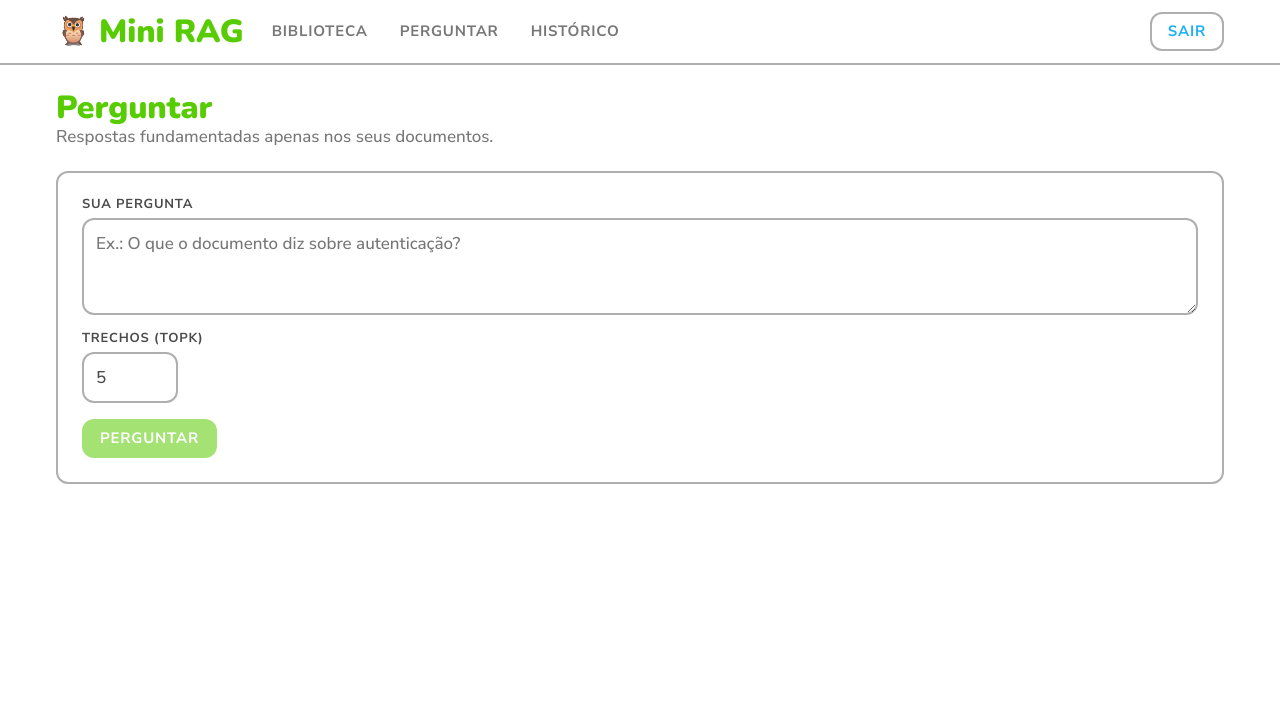
Test: ChatView (streaming RAG) › destaca o estado "sem evidência suficiente"
In the text box labelled "Sua pergunta": (640, 267) [82, 218, 1198, 315], type "Pergunta sem base"
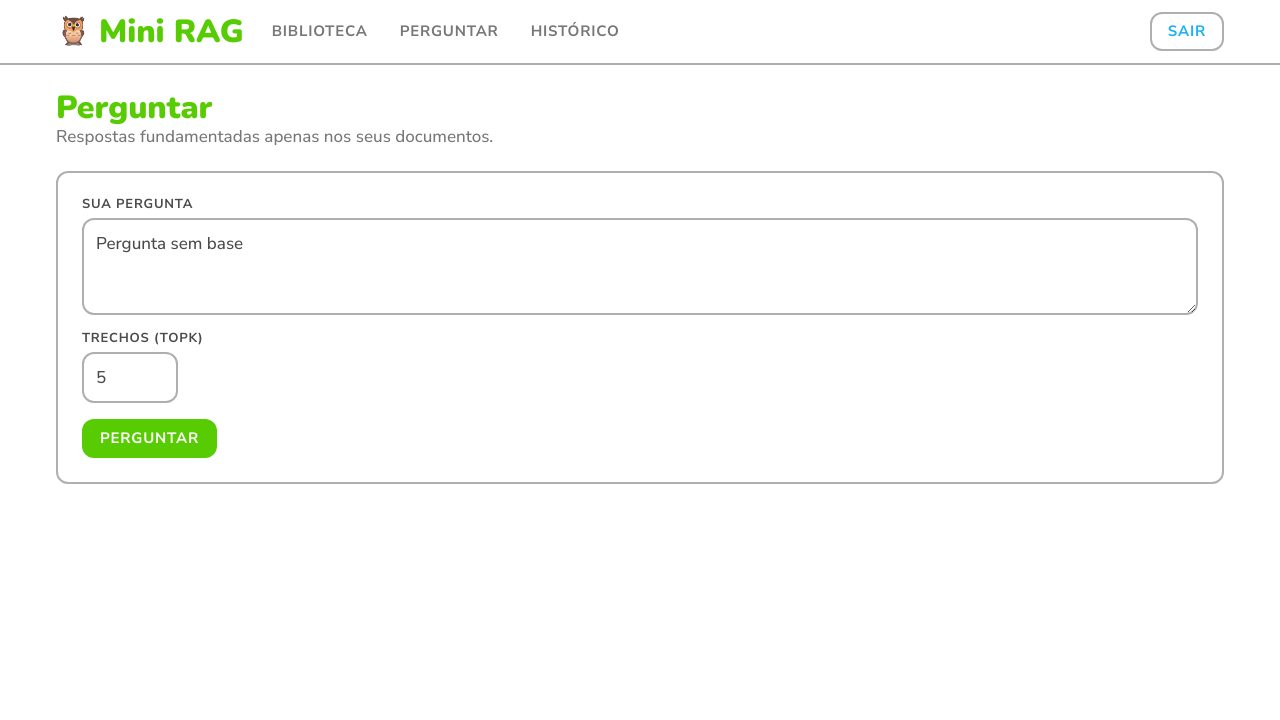
Submit the form, box [56, 171, 1224, 484]
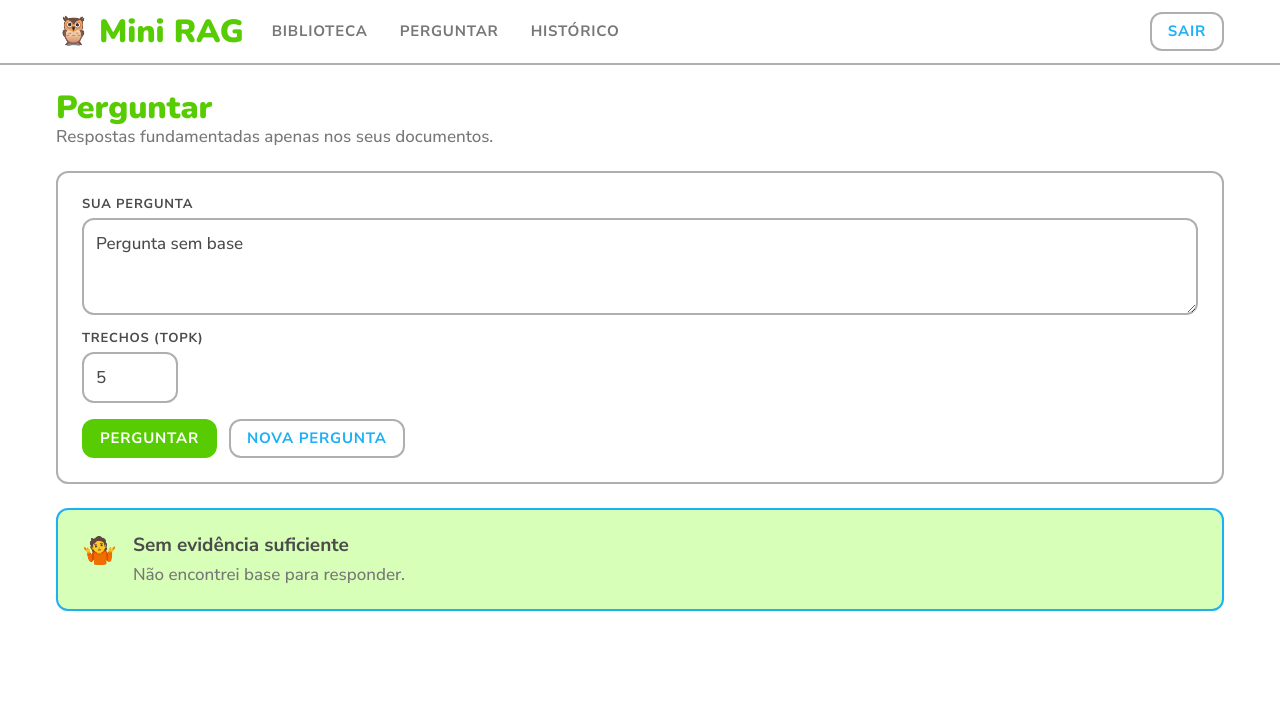
Expected: the text "Sem evidência suficiente" is shown, [133, 532, 349, 558]
Expected: the text "Não encontrei base para responder." is shown, [133, 565, 405, 585]
